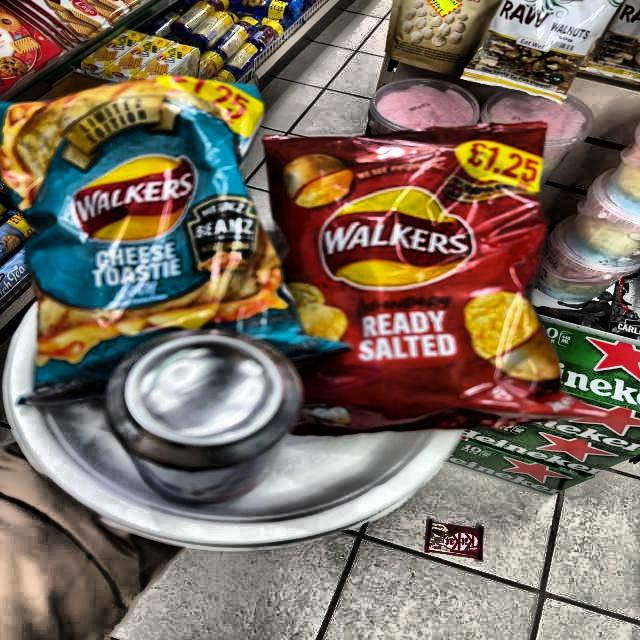Unknown: (0, 86, 312, 364), (296, 114, 548, 424)
pepsi-can: (120, 340, 302, 498)
